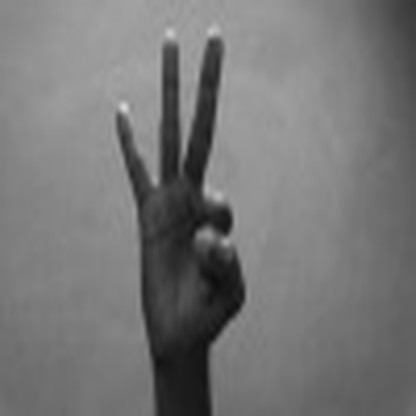f: (106, 20, 259, 346)
